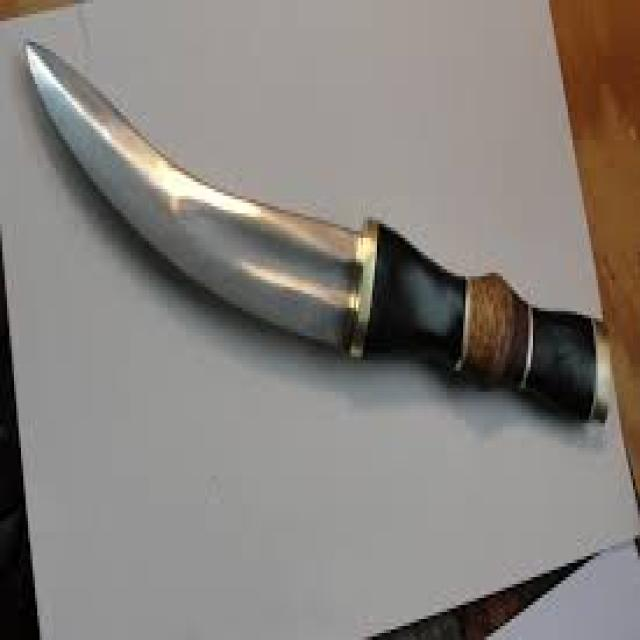Gun: (12, 29, 626, 456)
